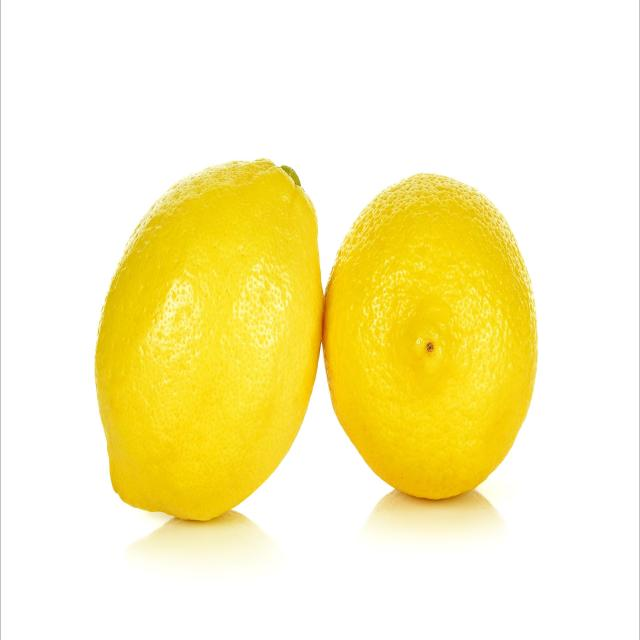lemon: (92, 153, 326, 525), (318, 169, 541, 507)
